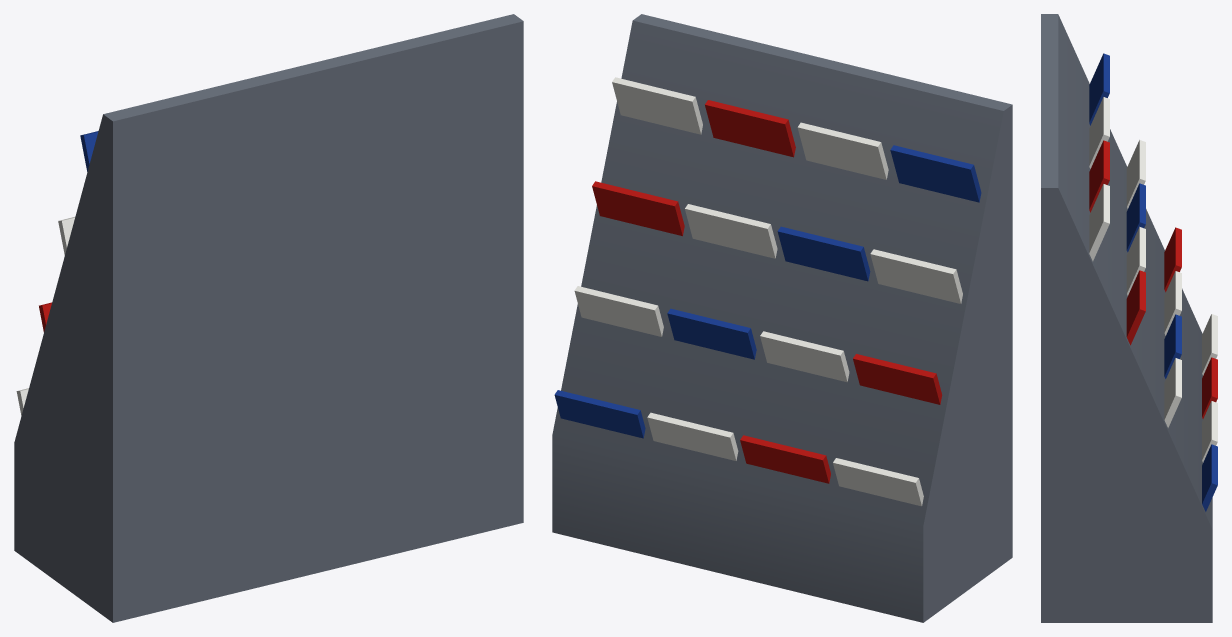
The model's file is retail.store.newspaper_stand.glb.
3 views of the same model, side by side, from view 1: azimuth 30°, elevation 25°; view 2: azimuth 150°, elevation 25°; view 3: azimuth 270°, elevation 25° (orthographic). The views are drawn at different scales.
Visible parts, largest first — view 1: main__steel_painted; view 2: main__steel_painted, main__paint_white, main__plastic_red, main__plastic_blue; view 3: main__steel_painted, main__paint_white, main__plastic_red, main__plastic_blue.
Part boxes in pixels (<box>): main__steel_painted: <box>14,14,523,622</box>; main__steel_painted: <box>552,14,1012,622</box>; main__paint_white: <box>574,77,962,506</box>; main__plastic_red: <box>592,100,942,483</box>; main__plastic_blue: <box>554,145,981,438</box>; main__steel_painted: <box>1041,14,1212,622</box>; main__paint_white: <box>1089,97,1217,462</box>; main__plastic_red: <box>1089,140,1217,418</box>; main__plastic_blue: <box>1089,53,1217,511</box>.
Bounding box in the file's own units: 1.2 × 1.4 × 0.5155.
